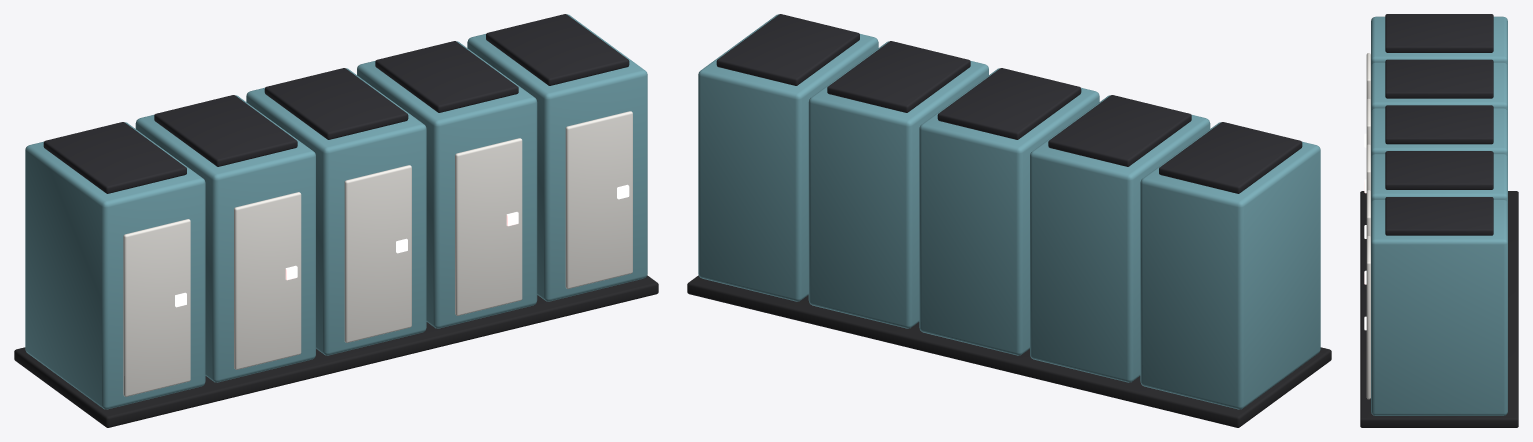
The model's file is toilet.glb.
The picture shows the model from 3 angles, left to right: view 1: azimuth 30°, elevation 25°; view 2: azimuth 150°, elevation 25°; view 3: azimuth 270°, elevation 25°; orthographic projection. The views are drawn at different scales.
Parts seen in each view (by area): view 1: toilet; view 2: toilet; view 3: toilet.
Part boxes in pixels (box(x1,y1,x2,y2)): toilet: box(14, 14, 658, 427); toilet: box(687, 14, 1331, 427); toilet: box(1360, 14, 1518, 427).
Size of the model in its own units: 150 by 59 by 44.
